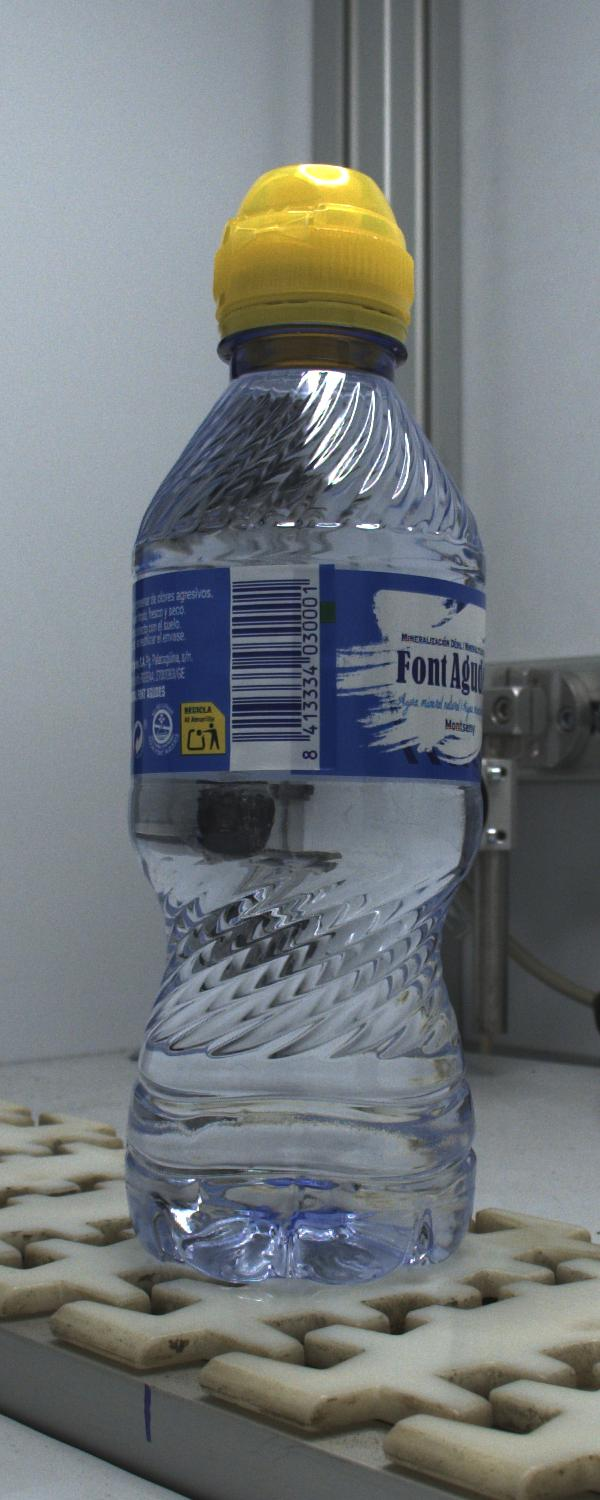bottle: (127, 164, 484, 1282)
cap: (213, 164, 413, 342)
